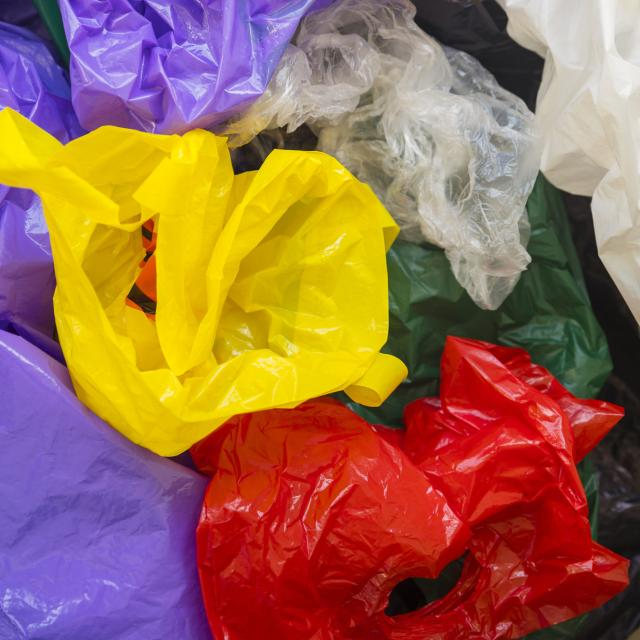Single-layer Plastic: (0, 109, 405, 456), (190, 336, 628, 640), (223, 0, 543, 309), (350, 175, 612, 428), (0, 331, 213, 639), (498, 0, 640, 319), (59, 0, 313, 134), (0, 185, 61, 358), (0, 21, 85, 143)
